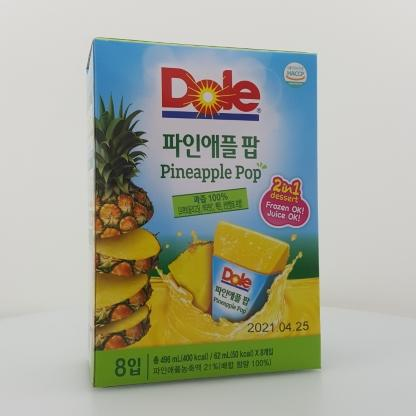---------496ML: (84, 37, 320, 388)
